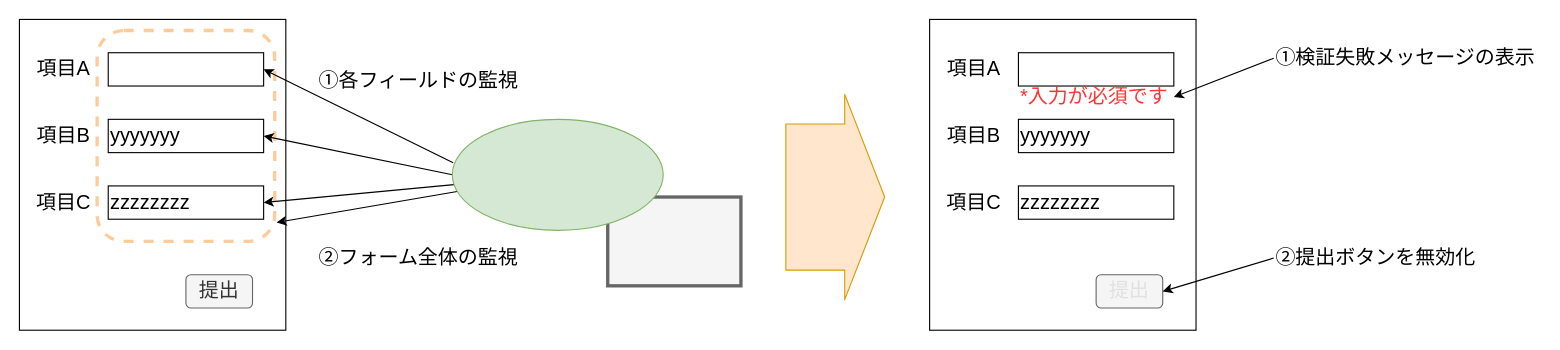
Some shapes in this 1560 by 350 pixel diagram are drawn without their labels. The shapes that lost their labels are listed below. From the top down, each one's centre as x and y in pixels, then its label:
point (557, 174): VeeValidate
point (674, 241): Zod 検証スキーマ
